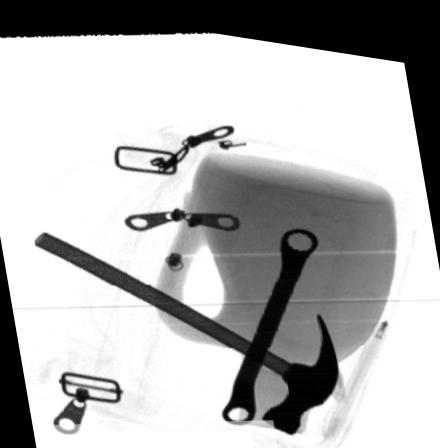Hammer: (31, 229, 338, 426)
Wrench: (220, 219, 316, 416)
